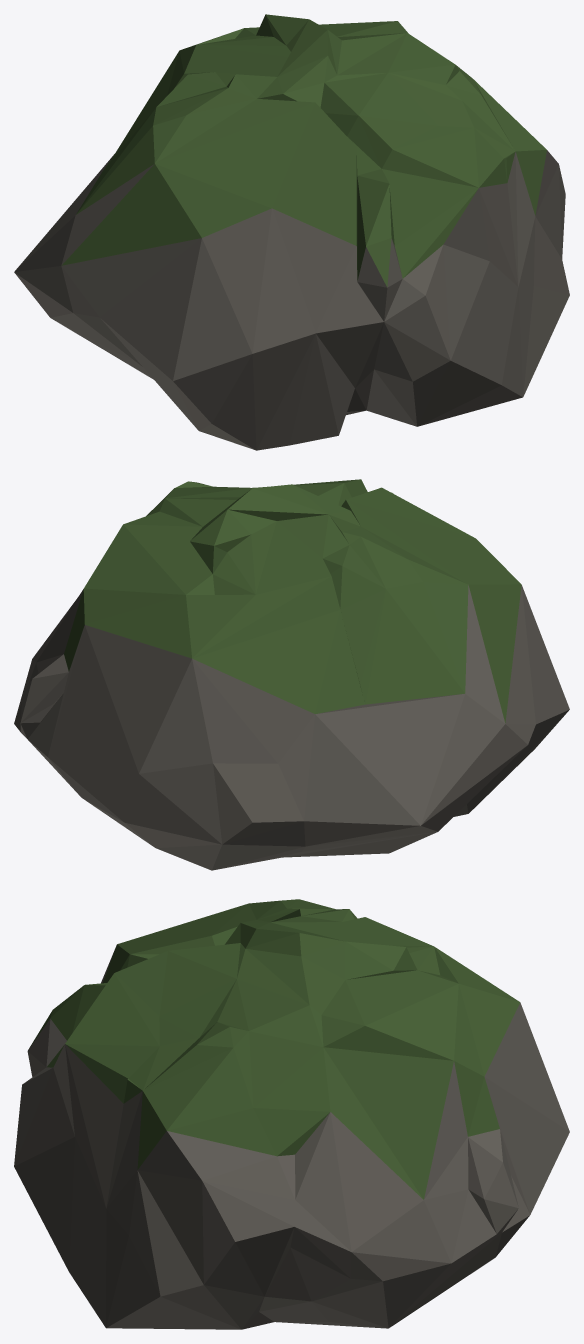
File: rockball-3.glb
The picture shows the model from 3 angles, top to bottom: view 1: azimuth 30°, elevation 25°; view 2: azimuth 150°, elevation 25°; view 3: azimuth 270°, elevation 25°; orthographic projection. The views are drawn at different scales.
Parts seen in each view (by area): view 1: output_unwrapped; view 2: output_unwrapped; view 3: output_unwrapped.
Part boxes in pixels (left/top/right/bottom): output_unwrapped: left=14, top=14, right=569, bottom=450; output_unwrapped: left=14, top=479, right=569, bottom=870; output_unwrapped: left=14, top=899, right=569, bottom=1329.
Size of the model in its own units: 2 by 1.33 by 1.92.
